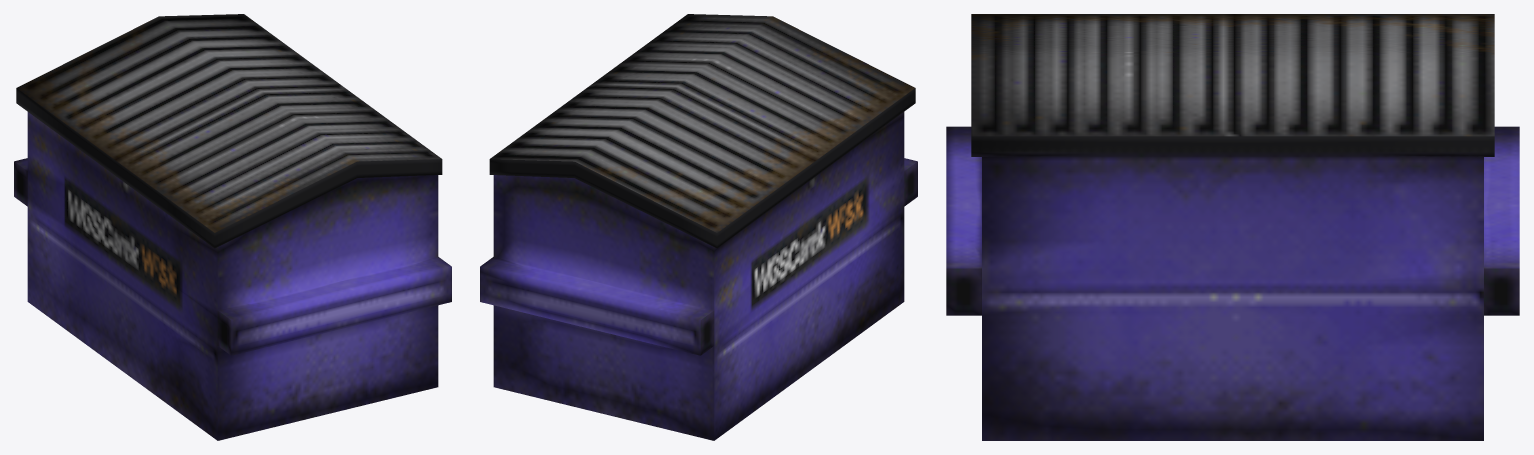
File: dumpster2.fbx
3 renders of one model, left to right at view 1: azimuth 30°, elevation 25°; view 2: azimuth 150°, elevation 25°; view 3: azimuth 270°, elevation 25°, orthographic. The views are drawn at different scales.
Visible parts, largest first — view 1: dumpster2; view 2: dumpster2; view 3: dumpster2.
Boxes of the visible parts, <box> form: dumpster2: <box>14,14,451,440</box>; dumpster2: <box>480,14,917,440</box>; dumpster2: <box>946,14,1519,440</box>.
Bounding box in the file's own units: 115 × 190 × 120.
Materials: 1 (1 with a texture image).
